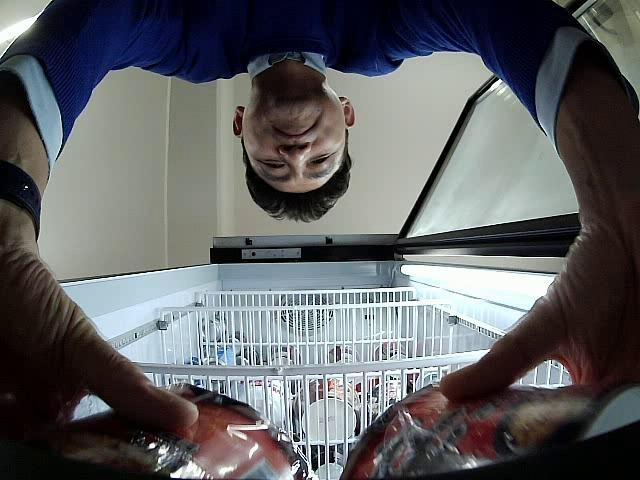01_ShinRamen_L: (337, 380, 640, 480), (40, 382, 319, 480)
